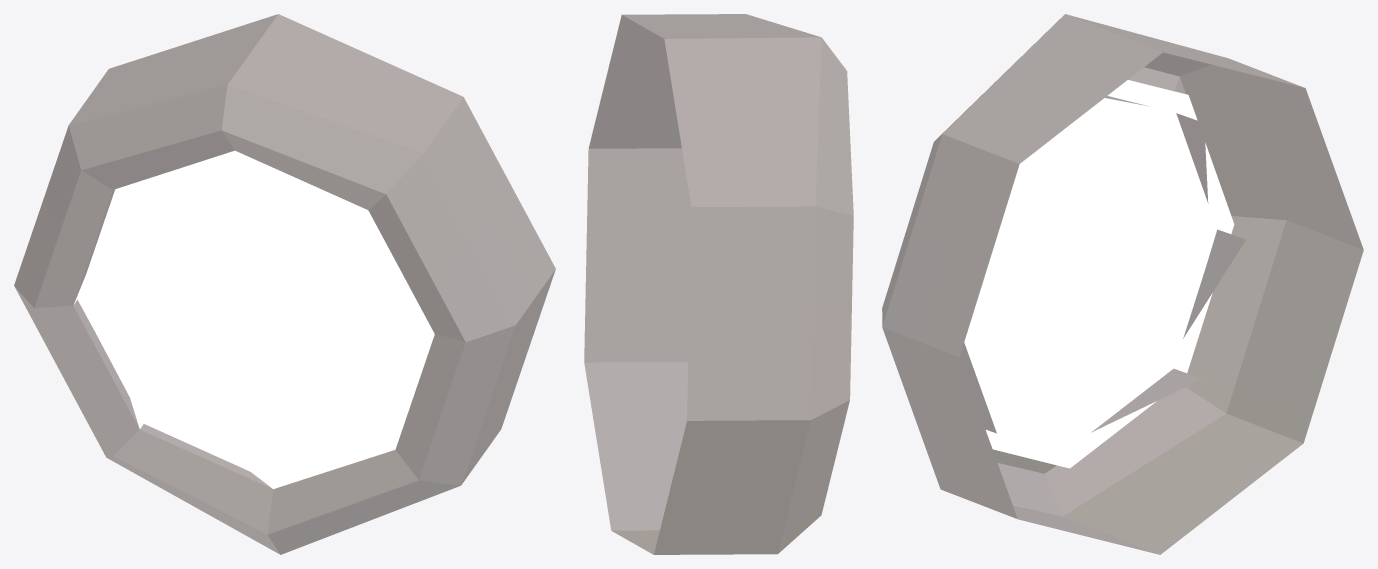
The model's file is portalWindow.glb.
The picture shows the model from 3 angles, left to right: view 1: azimuth 30°, elevation 25°; view 2: azimuth 150°, elevation 25°; view 3: azimuth 270°, elevation 25°; orthographic projection. The views are drawn at different scales.
Visible parts, largest first — view 1: planet.005, Window1.002; view 2: planet.005; view 3: planet.005, Window1.002.
Part boxes in pixels (x1,y1,x2,y2): planet.005: [14, 14, 555, 554]; Window1.002: [74, 150, 434, 488]; planet.005: [584, 14, 853, 554]; planet.005: [882, 14, 1363, 554]; Window1.002: [964, 80, 1234, 468].
Bounding box in the file's own units: 0.5635 × 0.6876 × 0.6157.
Materials: 2 (1 with a texture image).
